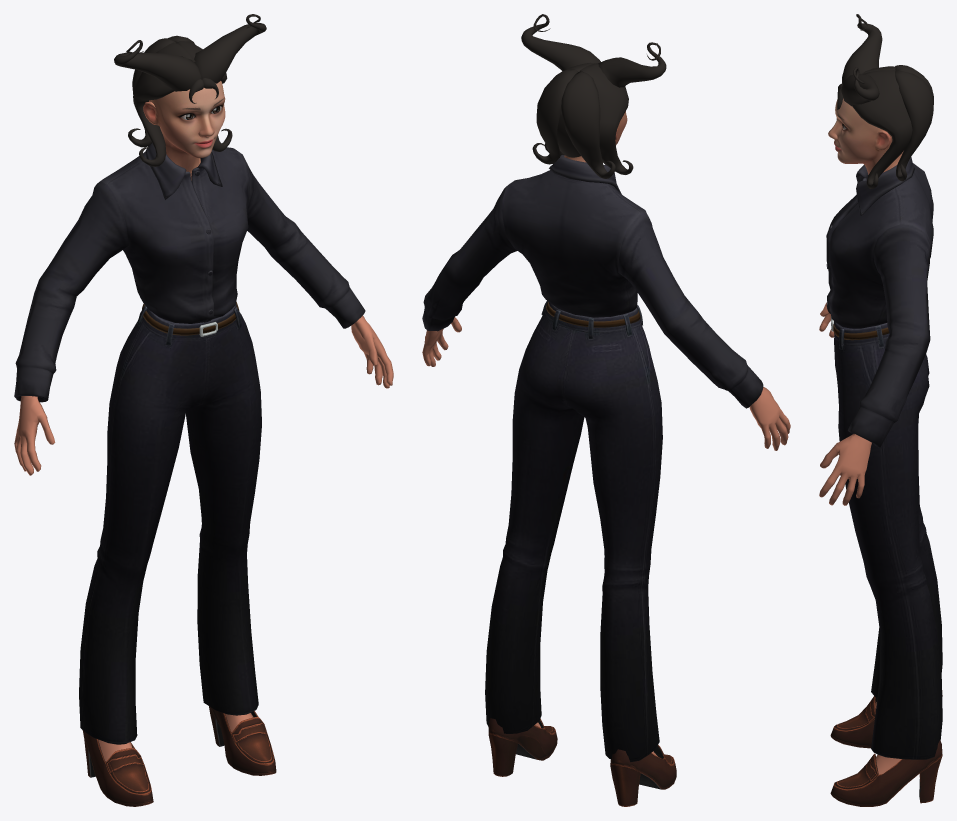
Rendered from eva2.fbx.
3 views of the same model, side by side, from view 1: azimuth 30°, elevation 25°; view 2: azimuth 150°, elevation 25°; view 3: azimuth 270°, elevation 25° (orthographic). The views are drawn at different scales.
Parts seen in each view (by area): view 1: Wolf3D_Outfit_Bottom, Wolf3D_Outfit_Top, Wolf3D_Hair, Wolf3D_Outfit_Footwear, Wolf3D_Head, Wolf3D_Body; view 2: Wolf3D_Outfit_Bottom, Wolf3D_Outfit_Top, Wolf3D_Hair, Wolf3D_Outfit_Footwear, Wolf3D_Body; view 3: Wolf3D_Outfit_Bottom, Wolf3D_Outfit_Top, Wolf3D_Hair, Wolf3D_Outfit_Footwear, Wolf3D_Body, Wolf3D_Head.
Boxes of the visible parts, box(x1,y1,x2,y2) form: Wolf3D_Outfit_Bottom: box(79, 302, 261, 744); Wolf3D_Outfit_Top: box(14, 143, 365, 402); Wolf3D_Hair: box(114, 14, 266, 166); Wolf3D_Outfit_Footwear: box(82, 706, 276, 806); Wolf3D_Head: box(143, 81, 225, 180); Wolf3D_Body: box(14, 315, 393, 761); Wolf3D_Outfit_Bottom: box(485, 301, 662, 762); Wolf3D_Outfit_Top: box(422, 155, 763, 408); Wolf3D_Hair: box(521, 14, 666, 178); Wolf3D_Outfit_Footwear: box(488, 718, 676, 806); Wolf3D_Body: box(422, 317, 790, 756); Wolf3D_Outfit_Bottom: box(831, 316, 942, 759); Wolf3D_Outfit_Top: box(826, 157, 933, 447); Wolf3D_Hair: box(837, 14, 933, 188); Wolf3D_Outfit_Footwear: box(830, 690, 942, 806); Wolf3D_Body: box(819, 302, 901, 774); Wolf3D_Head: box(828, 98, 903, 174).
Size of the model in its own units: 0.9279 by 1.83 by 0.2804.
8 materials, 8 textured.
